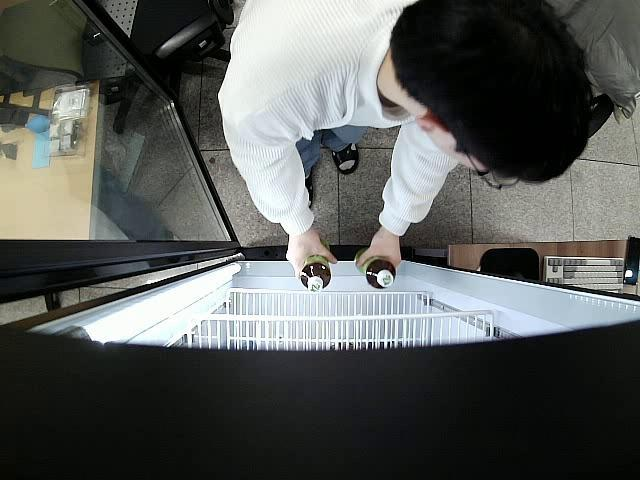19_17cha: (354, 252, 394, 290), (302, 254, 331, 295)
